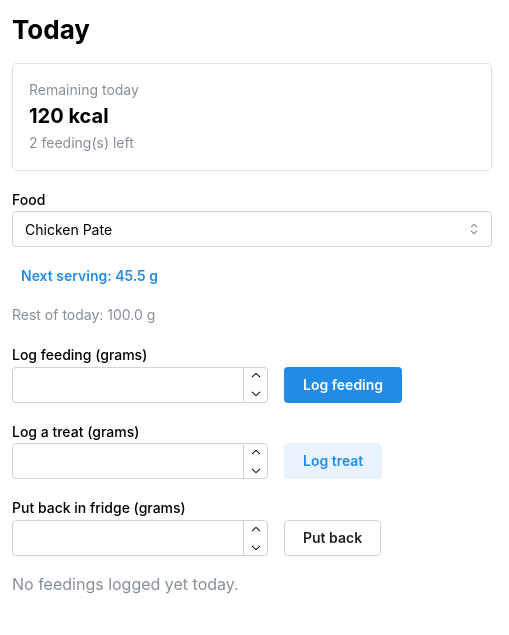
TodayScreen › logs a feeding and clears the input on success
Check: the text "120 kcal" is shown, box [29,104,109,128]
Type "30" into the field labelled "Log feeding (grams)" at (140, 385), box [12,367,268,403]
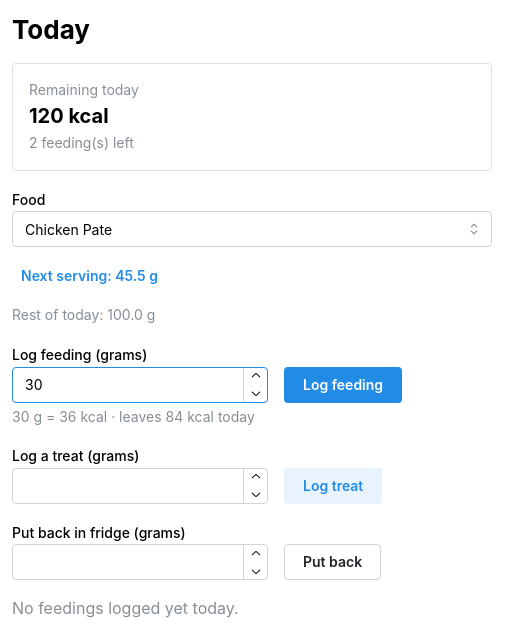
Click the button "Log feeding" at (343, 385), box [284,367,402,403]
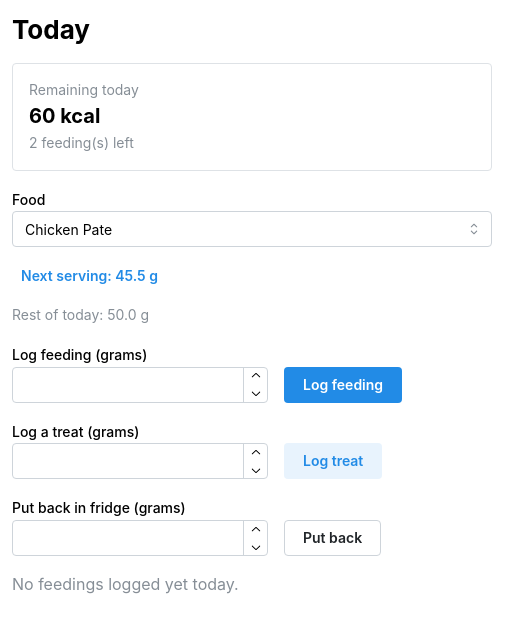
Check: the text "60 kcal" is shown, box [29,104,100,128]
Check: the field labelled "Log feeding (grams)" is empty, box [12,367,268,403]
